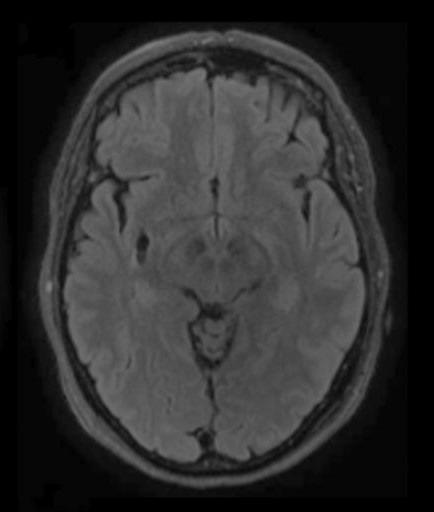Normal_Brain: (26, 1, 434, 512)
